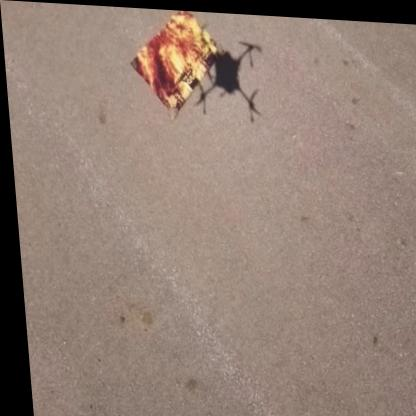fire-poster: (126, 6, 225, 120)
